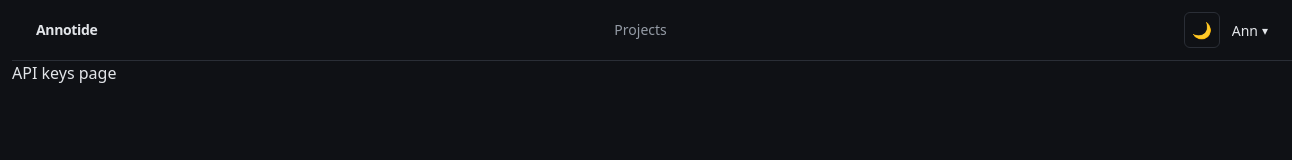
Test: Layout › links back to the project list from anywhere
What coordinates should you click on to do the following:
click the link "Projects"
I would click on:
 (640, 30)
Its box is [614,20,667,40].
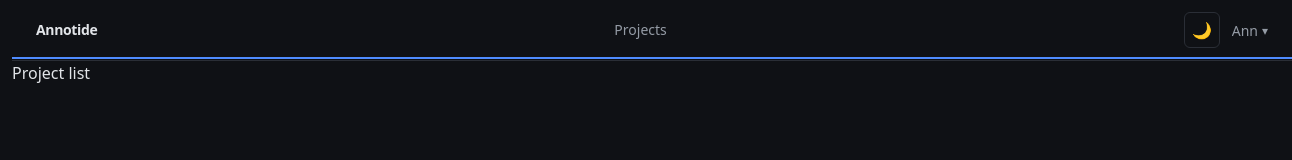
expect the text "Project list" is shown: met, box [12,62,90,84]
